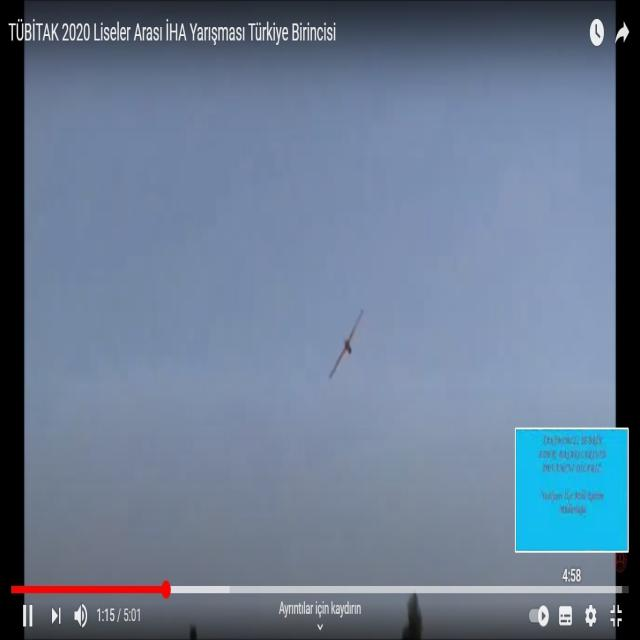iha: (328, 342, 364, 346)
